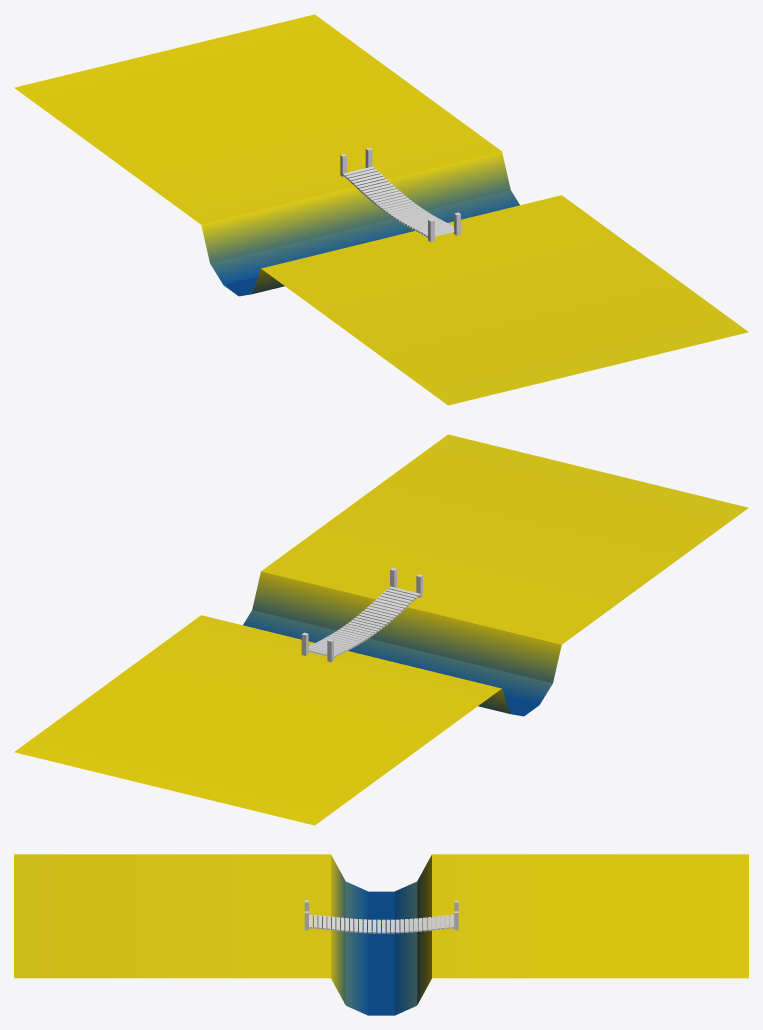
File: Zone4.glb
3 views of the same model, one above another, from view 1: azimuth 30°, elevation 25°; view 2: azimuth 150°, elevation 25°; view 3: azimuth 270°, elevation 25° (orthographic). The views are drawn at different scales.
Visible parts, largest first — view 1: Plane, Cube; view 2: Plane, Cube; view 3: Plane, Cube.
Boxes of the visible parts, <box> form: Plane: <box>14,14,748,405</box>; Cube: <box>340,148,460,242</box>; Plane: <box>14,434,748,825</box>; Cube: <box>301,568,422,662</box>; Plane: <box>14,854,748,1015</box>; Cube: <box>304,900,458,933</box>.
Bounding box in the file's own units: 20 × 4.11 × 50.
Materials: 1 (1 with a texture image).
